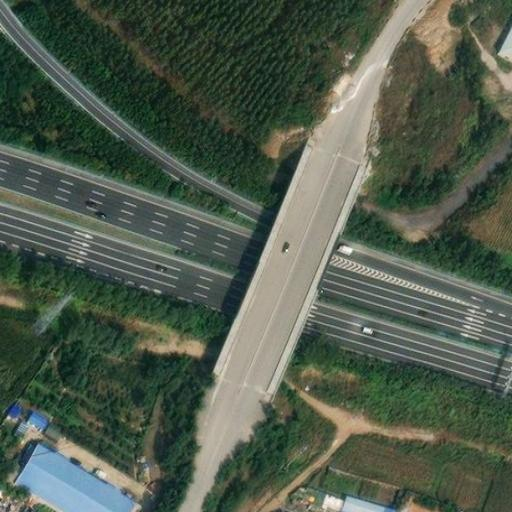building: (14, 435, 138, 512), (319, 484, 395, 512), (28, 402, 64, 433), (495, 16, 512, 59), (0, 397, 25, 423)
